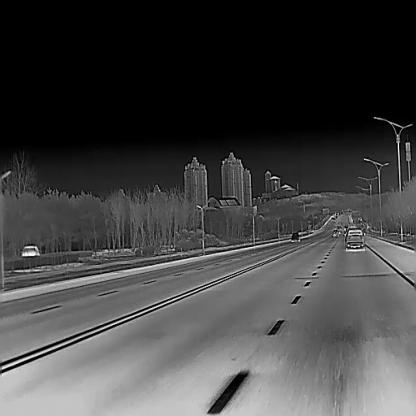car: (345, 227, 366, 250), (20, 244, 40, 257), (290, 233, 300, 242), (332, 229, 338, 237)
